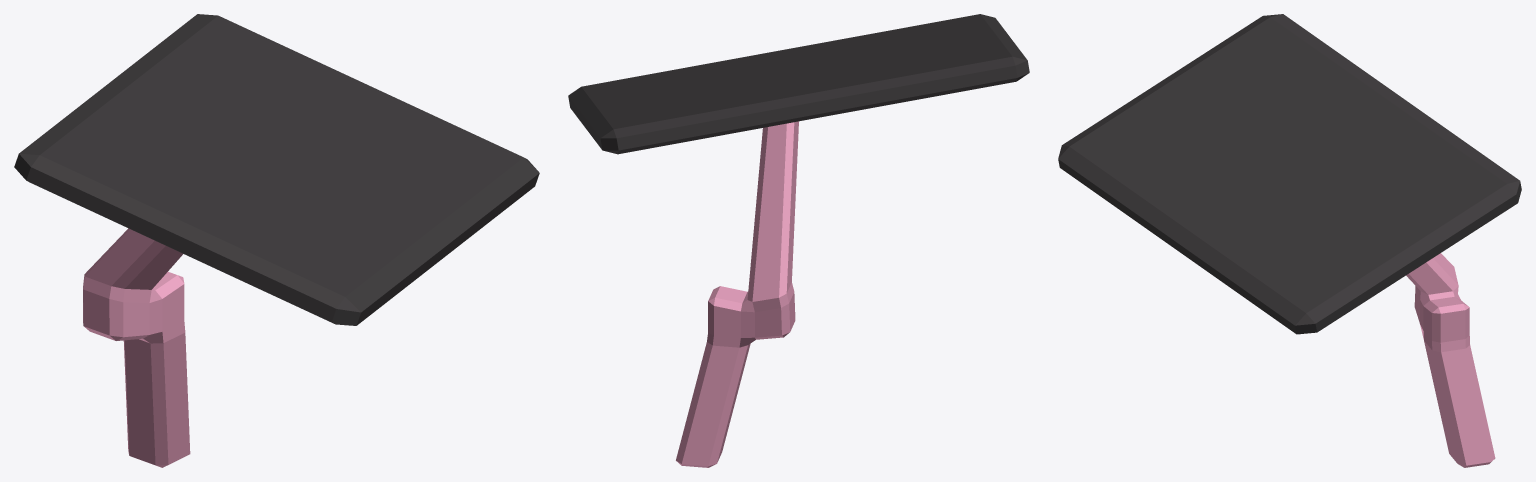
Rendered from Tree 2.fbx.
The picture shows the model from 3 angles, left to right: view 1: azimuth 30°, elevation 25°; view 2: azimuth 150°, elevation 25°; view 3: azimuth 270°, elevation 25°; orthographic projection. The views are drawn at different scales.
Visible parts, largest first — view 1: Tree 2; view 2: Tree 2; view 3: Tree 2.
Part boxes in pixels (left/top/right/bottom): Tree 2: left=14, top=14, right=539, bottom=467; Tree 2: left=568, top=14, right=1029, bottom=467; Tree 2: left=1058, top=14, right=1521, bottom=467.
Bounding box in the file's own units: 9.59 × 7.92 × 9.52.
